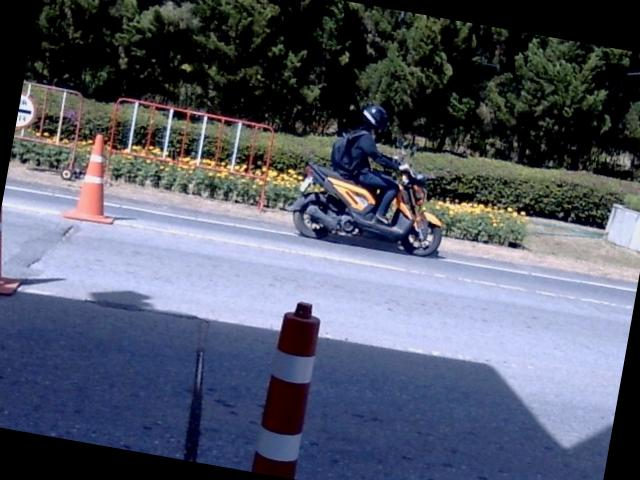helmet: (362, 103, 388, 129)
motor: (286, 162, 441, 255)
person: (330, 103, 406, 224)
